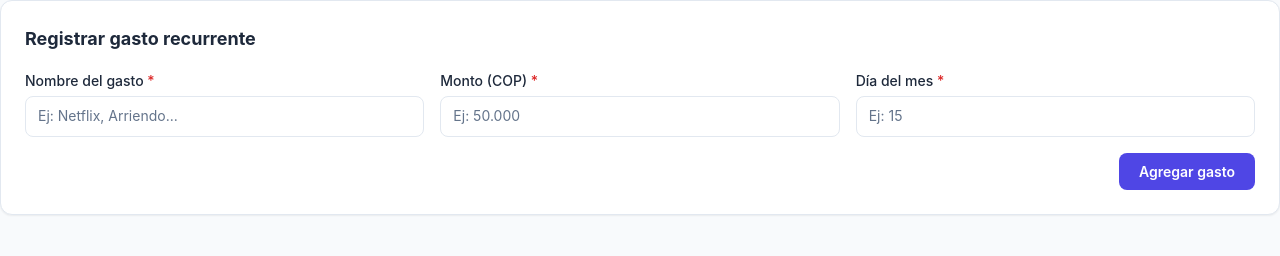
Scenario: ExpenseForm — validación › muestra error si el monto es 0
The width and height of the screenshot is (1280, 256).
In the field labelled "Nombre del gasto": (225, 116) [25, 96, 424, 137], type "Netflix"
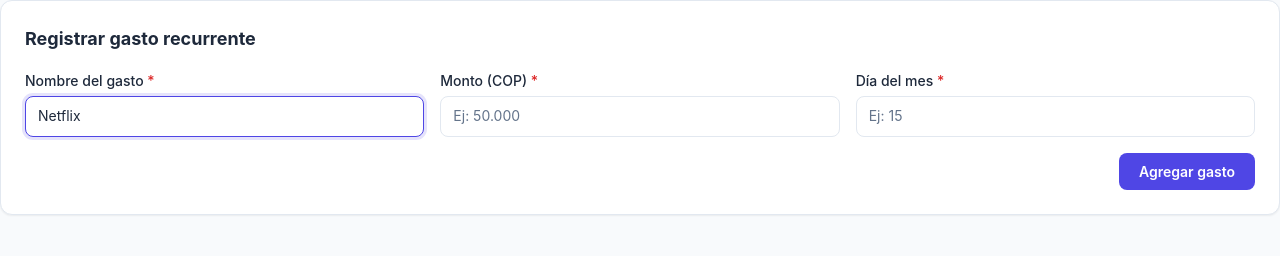
# El campo monto queda vacío → error de monto
Click the button "Agregar gasto": (1187, 171) [1119, 153, 1255, 190]
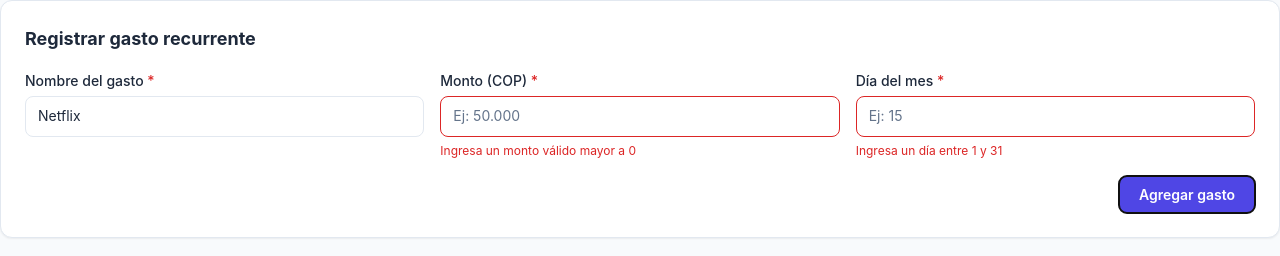
expect the text "Ingresa un monto válido mayor a 0" is shown: met, box [440, 143, 636, 158]
